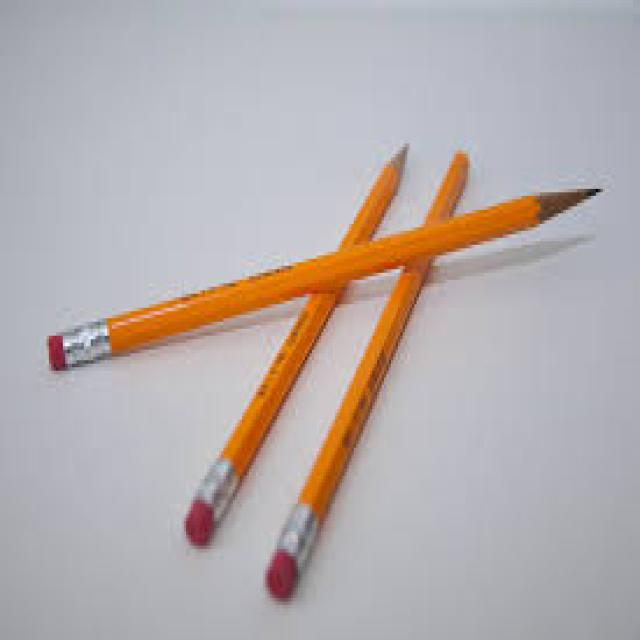pencil: (31, 167, 619, 392), (257, 134, 475, 611), (170, 133, 410, 559)
